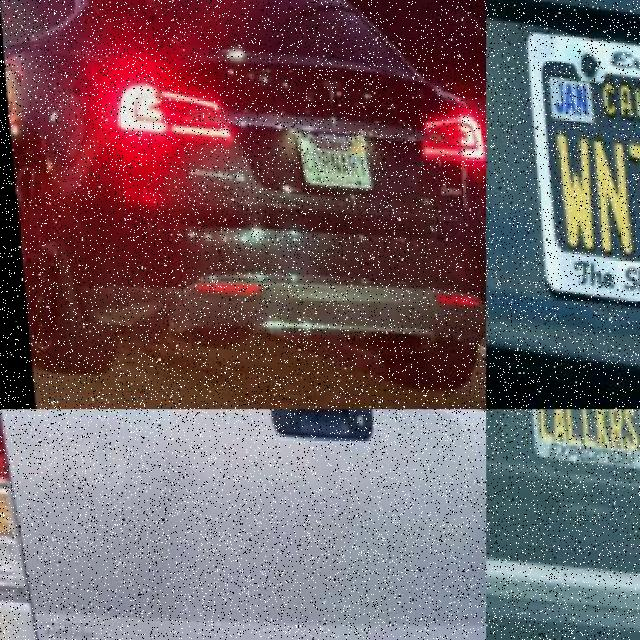licenseplate: (521, 18, 640, 319), (524, 409, 640, 466), (288, 124, 370, 182)
